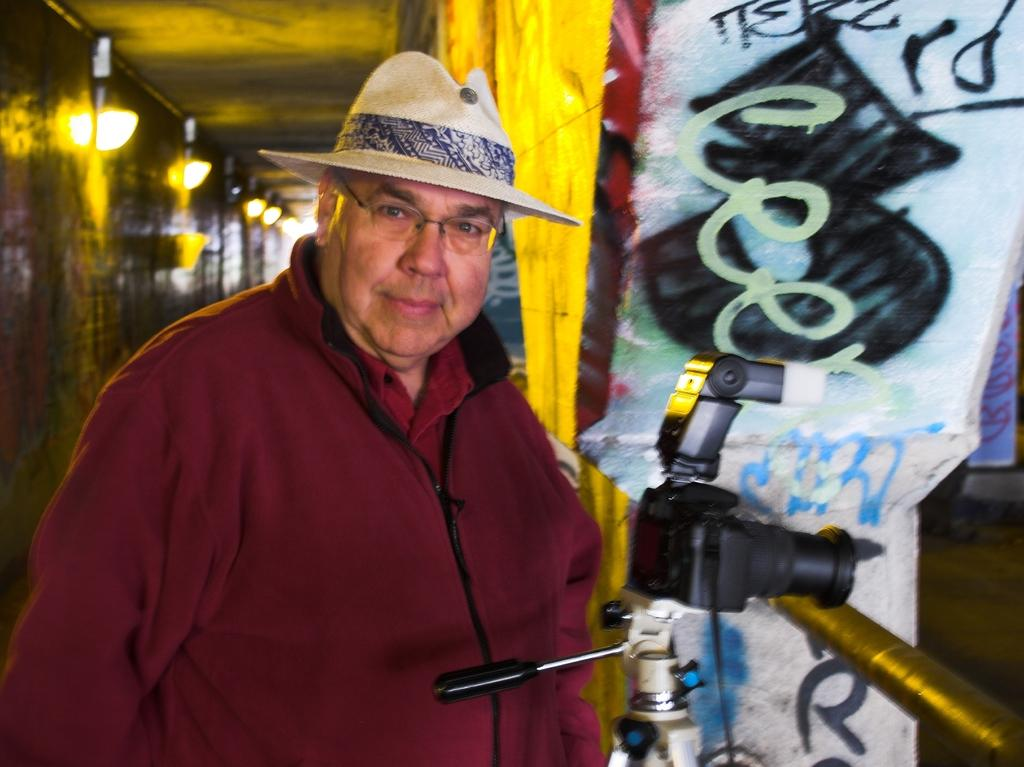Hat: (259, 50, 579, 222)
